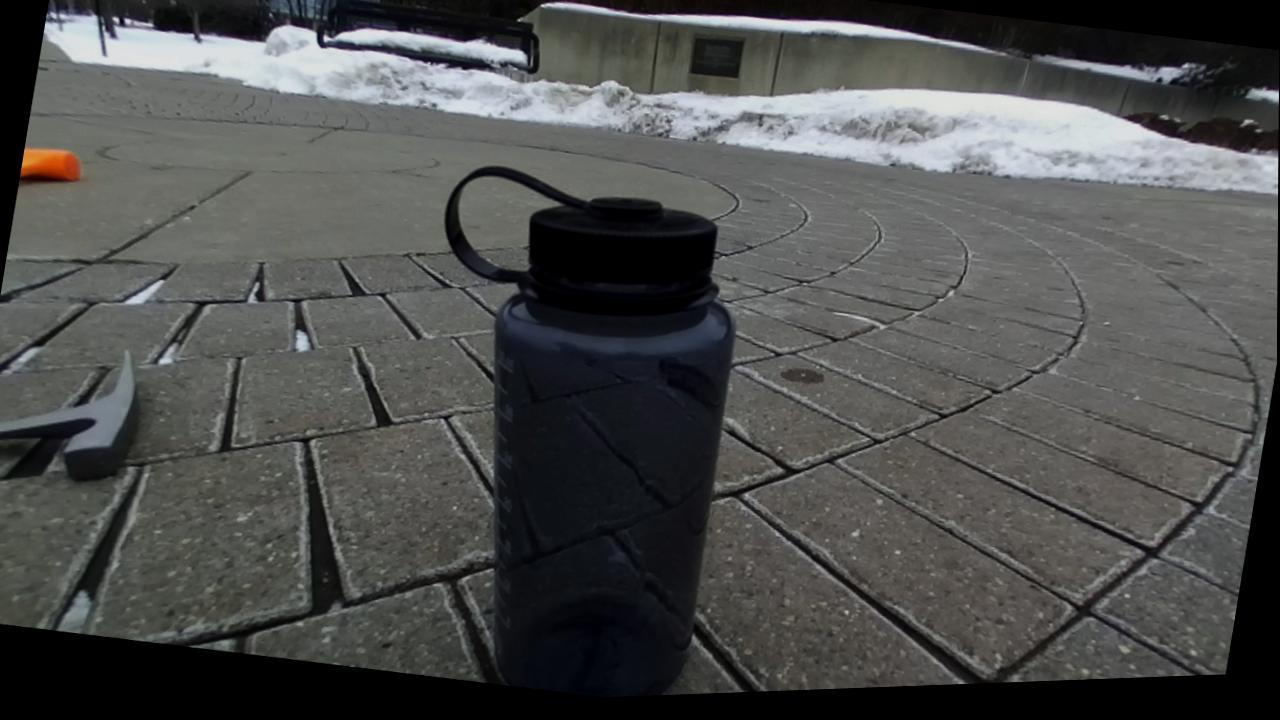bottle: (444, 165, 734, 697)
